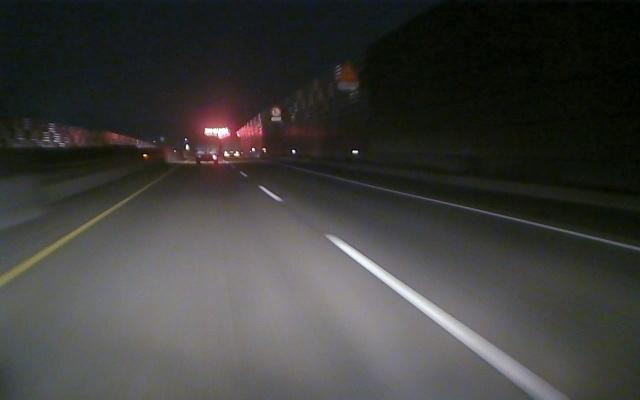lane: (250, 178, 572, 399), (350, 180, 640, 251), (1, 175, 165, 286)
